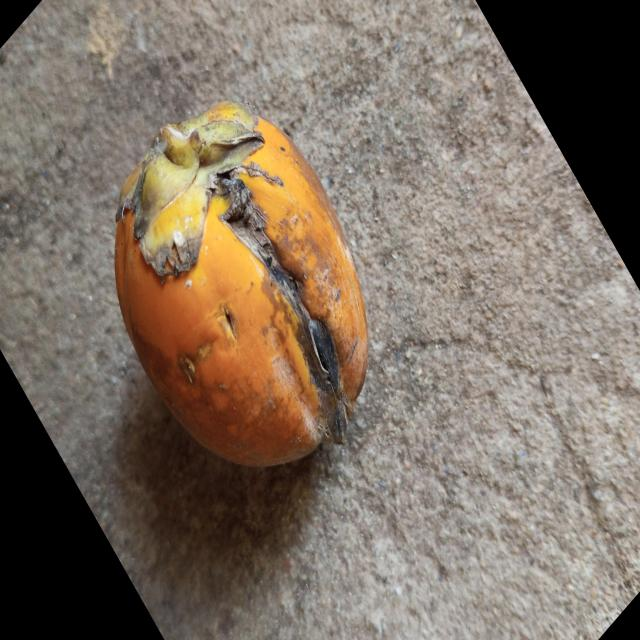damaged: (115, 101, 368, 466)
